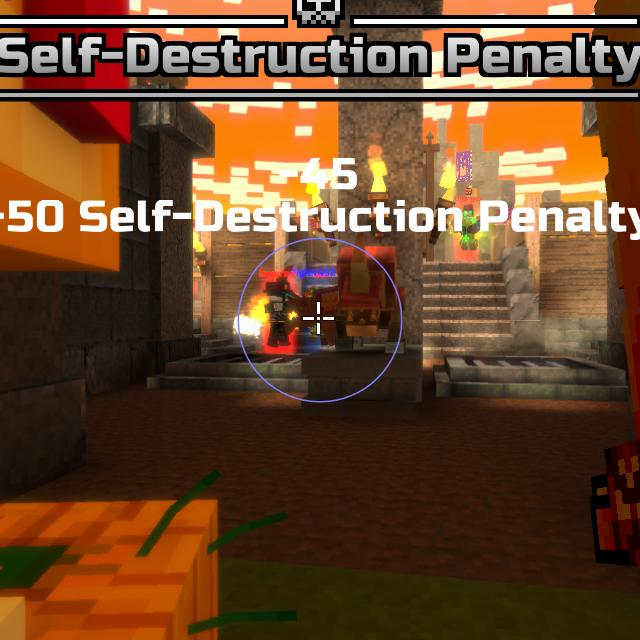Enemy: (264, 280, 299, 346), (453, 204, 480, 251)
